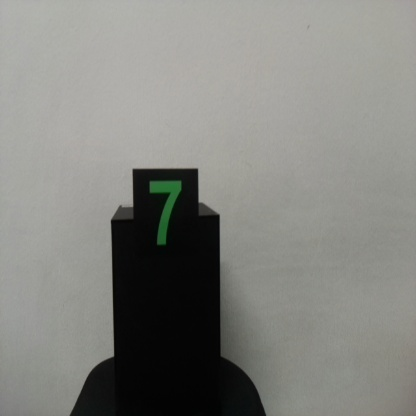id_7: (133, 170, 199, 264)
